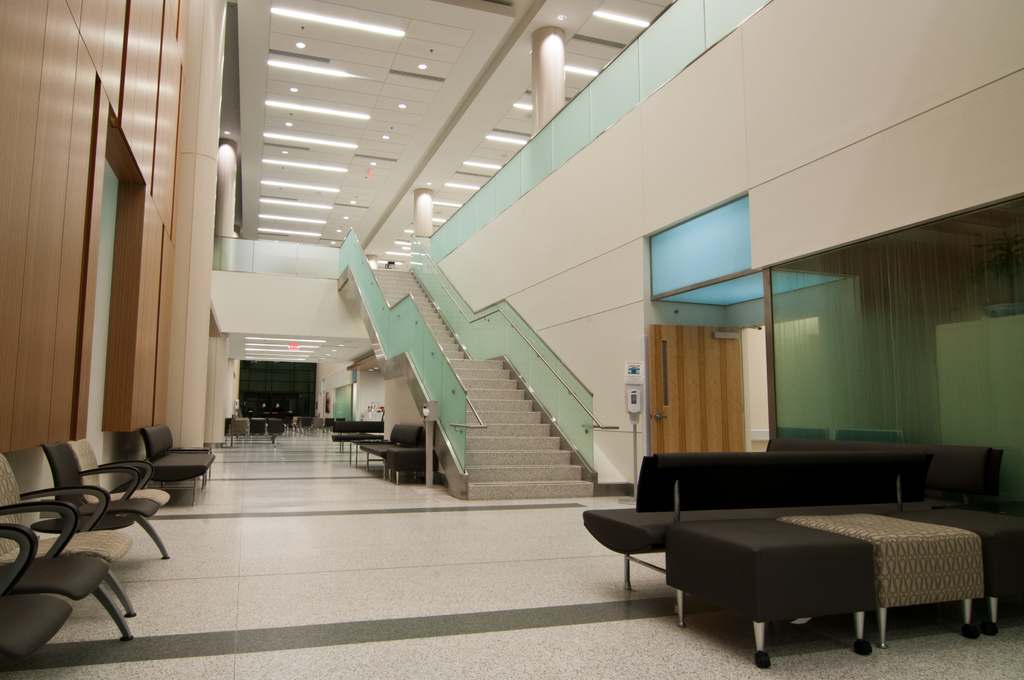Couch: (620, 428, 1024, 649)
